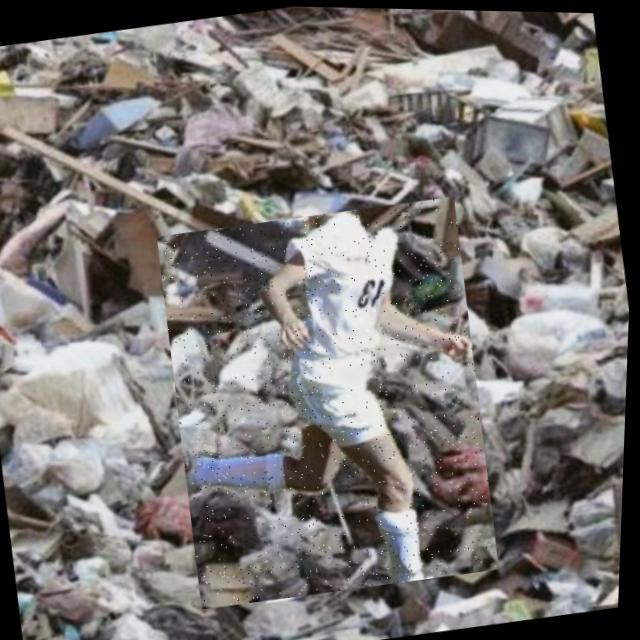Person in Rubble: (148, 189, 514, 614)
